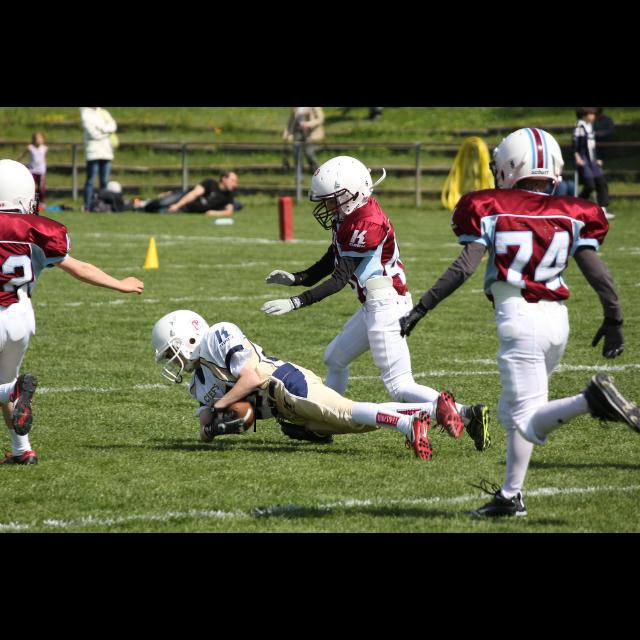Football: (214, 398, 256, 432)
